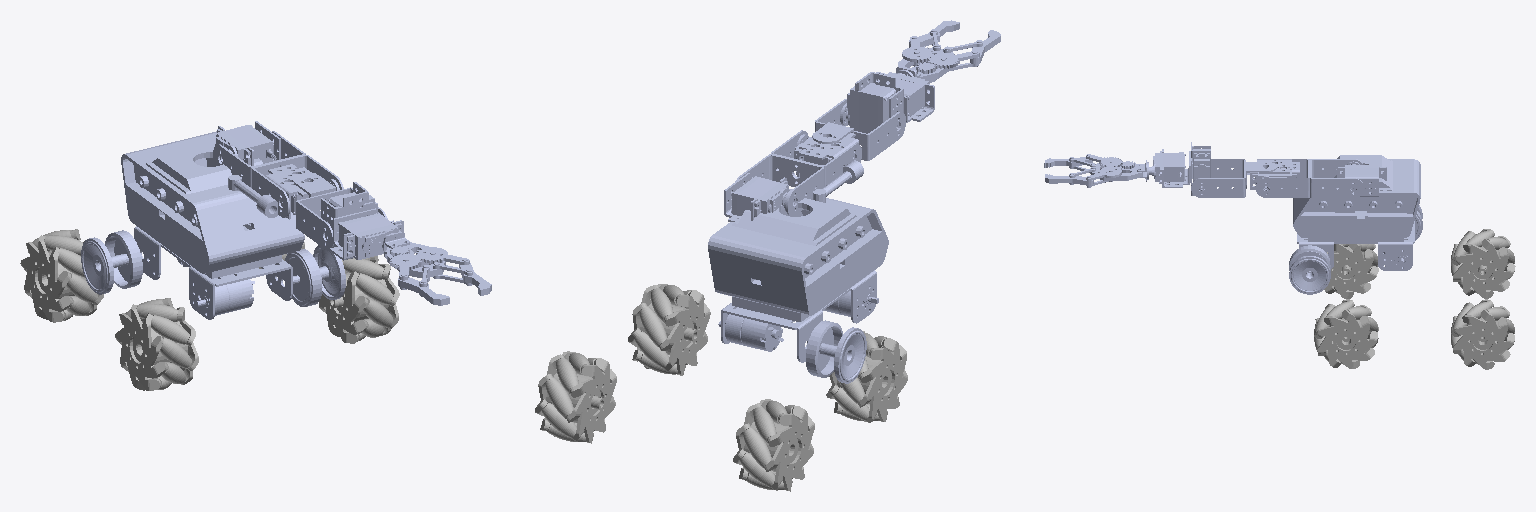
The robot description file, URDF, robot "urdf_omnidirectional_manipulator":
<?xml version="1.0" encoding="utf-8"?>
<!-- This URDF was automatically created by SolidWorks to URDF Exporter! Originally created by [author] ([email redacted]) 
     Commit Version: 1.6.0-4-g7f85cfe  Build Version: 1.6.7995.38578
     For more information, please see http://wiki.ros.org/sw_urdf_exporter -->
<robot
  name="urdf_omnidirectional_manipulator">
  <link
    name="base_link">
    <inertial>
      <origin
        xyz="0.000101168364989104 -0.00377722152863208 0.0460516576627933"
        rpy="0 0 0" />
      <mass
        value="0.577281083216241" />
      <inertia
        ixx="0.00162450670599958"
        ixy="-4.63440581983851E-07"
        ixz="-2.10706591377875E-08"
        iyy="0.000877404129357638"
        iyz="1.3538679556105E-07"
        izz="0.00178173129381051" />
    </inertial>
    <visual>
      <origin
        xyz="0 0 0"
        rpy="0 0 0" />
      <geometry>
        <mesh
          filename="package://urdf_omnidirectional_manipulator/meshes/base_link.STL" />
      </geometry>
      <material
        name="">
        <color
          rgba="0.792156862745098 0.819607843137255 0.933333333333333 1" />
      </material>
    </visual>
    <collision>
      <origin
        xyz="0 0 0"
        rpy="0 0 0" />
      <geometry>
        <mesh
          filename="package://urdf_omnidirectional_manipulator/meshes/base_link.STL" />
      </geometry>
    </collision>
  </link>
  <link
    name="fl_wheel_link">
    <inertial>
      <origin
        xyz="4.52085493402032E-06 -4.88664378021919E-05 -0.0179706540332964"
        rpy="0 0 0" />
      <mass
        value="0.123795234111436" />
      <inertia
        ixx="2.36708966689132E-05"
        ixy="-5.47275866691368E-11"
        ixz="-2.37723215757676E-12"
        iyy="2.36713215795414E-05"
        iyz="-5.93576540349247E-13"
        izz="3.12049313661706E-05" />
    </inertial>
    <visual>
      <origin
        xyz="0 0 0"
        rpy="0 0 0" />
      <geometry>
        <mesh
          filename="package://urdf_omnidirectional_manipulator/meshes/fl_wheel_link.STL" />
      </geometry>
      <material
        name="">
        <color
          rgba="0.752941176470588 0.752941176470588 0.752941176470588 1" />
      </material>
    </visual>
    <collision>
      <origin
        xyz="0 0 0"
        rpy="0 0 0" />
      <geometry>
        <mesh
          filename="package://urdf_omnidirectional_manipulator/meshes/fl_wheel_link.STL" />
      </geometry>
    </collision>
  </link>
  <joint
    name="fl_wheel_joint"
    type="continuous">
    <origin
      xyz="0.11788 -0.081567 -0.037794"
      rpy="1.5708 0 1.5708" />
    <parent
      link="base_link" />
    <child
      link="fl_wheel_link" />
    <axis
      xyz="0 0 1" />
  </joint>
  <link
    name="rl_wheel_link">
    <inertial>
      <origin
        xyz="3.38688270623555E-07 -4.90739561579412E-05 -0.0179706540274416"
        rpy="0 0 0" />
      <mass
        value="0.123795234112302" />
      <inertia
        ixx="2.36708904525499E-05"
        ixy="-1.78357083418209E-11"
        ixz="-2.43197290538672E-12"
        iyy="2.36713277993141E-05"
        iyz="-3.86641400007471E-13"
        izz="3.12049313695836E-05" />
    </inertial>
    <visual>
      <origin
        xyz="0 0 0"
        rpy="0 0 0" />
      <geometry>
        <mesh
          filename="package://urdf_omnidirectional_manipulator/meshes/rl_wheel_link.STL" />
      </geometry>
      <material
        name="">
        <color
          rgba="0.752941176470588 0.752941176470588 0.752941176470588 1" />
      </material>
    </visual>
    <collision>
      <origin
        xyz="0 0 0"
        rpy="0 0 0" />
      <geometry>
        <mesh
          filename="package://urdf_omnidirectional_manipulator/meshes/rl_wheel_link.STL" />
      </geometry>
    </collision>
  </link>
  <joint
    name="rl_wheel_joint"
    type="continuous">
    <origin
      xyz="0.11788 0.081569 -0.037789"
      rpy="1.5708 0 1.5708" />
    <parent
      link="base_link" />
    <child
      link="rl_wheel_link" />
    <axis
      xyz="0 0 1" />
  </joint>
  <link
    name="fr_wheel_link">
    <inertial>
      <origin
        xyz="-6.11520901047657E-06 4.86926204521509E-05 -0.0179706540345967"
        rpy="0 0 0" />
      <mass
        value="0.123795234122331" />
      <inertia
        ixx="2.36709007013009E-05"
        ixy="-6.84922971243531E-11"
        ixz="2.35721092189649E-12"
        iyy="2.36713175553343E-05"
        iyz="6.62652709376486E-13"
        izz="3.12049313743489E-05" />
    </inertial>
    <visual>
      <origin
        xyz="0 0 0"
        rpy="0 0 0" />
      <geometry>
        <mesh
          filename="package://urdf_omnidirectional_manipulator/meshes/fr_wheel_link.STL" />
      </geometry>
      <material
        name="">
        <color
          rgba="0.752941176470588 0.752941176470588 0.752941176470588 1" />
      </material>
    </visual>
    <collision>
      <origin
        xyz="0 0 0"
        rpy="0 0 0" />
      <geometry>
        <mesh
          filename="package://urdf_omnidirectional_manipulator/meshes/fr_wheel_link.STL" />
      </geometry>
    </collision>
  </link>
  <joint
    name="fr_wheel_joint"
    type="continuous">
    <origin
      xyz="-0.11788 -0.081566 -0.037705"
      rpy="1.5708 0 -1.5708" />
    <parent
      link="base_link" />
    <child
      link="fr_wheel_link" />
    <axis
      xyz="0 0 1" />
  </joint>
  <link
    name="rr_wheel_link">
    <inertial>
      <origin
        xyz="3.19934590352483E-05 -3.72127310237502E-05 -0.0179706540223195"
        rpy="0 0 0" />
      <mass
        value="0.12379523412853" />
      <inertia
        ixx="2.36710909421958E-05"
        ixy="-2.18652607900441E-10"
        ixz="-1.61525081587452E-12"
        iyy="2.36711273190928E-05"
        iyz="-1.87489341406403E-12"
        izz="3.12049313790006E-05" />
    </inertial>
    <visual>
      <origin
        xyz="0 0 0"
        rpy="0 0 0" />
      <geometry>
        <mesh
          filename="package://urdf_omnidirectional_manipulator/meshes/rr_wheel_link.STL" />
      </geometry>
      <material
        name="">
        <color
          rgba="0.752941176470588 0.752941176470588 0.752941176470588 1" />
      </material>
    </visual>
    <collision>
      <origin
        xyz="0 0 0"
        rpy="0 0 0" />
      <geometry>
        <mesh
          filename="package://urdf_omnidirectional_manipulator/meshes/rr_wheel_link.STL" />
      </geometry>
    </collision>
  </link>
  <joint
    name="rr_wheel_joint"
    type="continuous">
    <origin
      xyz="-0.11788 0.081609 -0.037681"
      rpy="-1.5708 0 1.5708" />
    <parent
      link="base_link" />
    <child
      link="rr_wheel_link" />
    <axis
      xyz="0 0 1" />
  </joint>
  <link
    name="Link_1">
    <inertial>
      <origin
        xyz="0.000506046615463357 0.00691496728629516 -0.0122755959836562"
        rpy="0 0 0" />
      <mass
        value="0.0382070631949755" />
      <inertia
        ixx="6.05895904112999E-06"
        ixy="-3.26790900435385E-10"
        ixz="1.70232643106716E-08"
        iyy="1.06084491676467E-05"
        iyz="1.55715035338171E-07"
        izz="7.32724940736577E-06" />
    </inertial>
    <visual>
      <origin
        xyz="0 0 0"
        rpy="0 0 0" />
      <geometry>
        <mesh
          filename="package://urdf_omnidirectional_manipulator/meshes/Link_1.STL" />
      </geometry>
      <material
        name="">
        <color
          rgba="0.792156862745098 0.819607843137255 0.933333333333333 1" />
      </material>
    </visual>
    <collision>
      <origin
        xyz="0 0 0"
        rpy="0 0 0" />
      <geometry>
        <mesh
          filename="package://urdf_omnidirectional_manipulator/meshes/Link_1.STL" />
      </geometry>
    </collision>
  </link>
  <joint
    name="joint_1"
    type="revolute">
    <origin
      xyz="0.0099965 -0.062847 0.12528"
      rpy="-1.5708 0 -1.5708" />
    <parent
      link="base_link" />
    <child
      link="Link_1" />
    <axis
      xyz="0 1 0" />
    <limit
      lower="-1.57"
      upper="0"
      effort="10"
      velocity="100" />
  </joint>
  <link
    name="Link_2">
    <inertial>
      <origin
        xyz="0.0519935153424735 9.31325867987998E-10 -0.0241591323242931"
        rpy="0 0 0" />
      <mass
        value="0.0170251169263654" />
      <inertia
        ixx="1.08907010787336E-05"
        ixy="3.11047077367638E-08"
        ixz="-5.74856746591523E-21"
        iyy="1.68733569095532E-05"
        iyz="1.46608453476581E-21"
        izz="7.85969468178107E-06" />
    </inertial>
    <visual>
      <origin
        xyz="0 0 0"
        rpy="0 0 0" />
      <geometry>
        <mesh
          filename="package://urdf_omnidirectional_manipulator/meshes/Link_2.STL" />
      </geometry>
      <material
        name="">
        <color
          rgba="0.792156862745098 0.819607843137255 0.933333333333333 1" />
      </material>
    </visual>
    <collision>
      <origin
        xyz="0 0 0"
        rpy="0 0 0" />
      <geometry>
        <mesh
          filename="package://urdf_omnidirectional_manipulator/meshes/Link_2.STL" />
      </geometry>
    </collision>
  </link>
  <joint
    name="joint_2"
    type="revolute">
    <origin
      xyz="0.010077 0.0057856 0.01"
      rpy="0 0 0" />
    <parent
      link="Link_1" />
    <child
      link="Link_2" />
    <axis
      xyz="0 0 1" />
    <limit
      lower="0"
      upper="0.45"
      effort="10"
      velocity="100" />
  </joint>
  <link
    name="Link_3">
    <inertial>
      <origin
        xyz="-0.00145033630413227 -0.00137973727908961 0.0156275288663969"
        rpy="0 0 0" />
      <mass
        value="0.0494773487894258" />
      <inertia
        ixx="1.18336660189981E-05"
        ixy="1.24373046667324E-07"
        ixz="-1.86477617019496E-08"
        iyy="1.954406916305E-05"
        iyz="-1.55737377757555E-07"
        izz="1.17899796886126E-05" />
    </inertial>
    <visual>
      <origin
        xyz="0 0 0"
        rpy="0 0 0" />
      <geometry>
        <mesh
          filename="package://urdf_omnidirectional_manipulator/meshes/Link_3.STL" />
      </geometry>
      <material
        name="">
        <color
          rgba="0.792156862745098 0.819607843137255 0.933333333333333 1" />
      </material>
    </visual>
    <collision>
      <origin
        xyz="0 0 0"
        rpy="0 0 0" />
      <geometry>
        <mesh
          filename="package://urdf_omnidirectional_manipulator/meshes/Link_3.STL" />
      </geometry>
    </collision>
  </link>
  <joint
    name="joint_3"
    type="revolute">
    <origin
      xyz="0.10399 0 -0.01"
      rpy="3.1416 0 3.1416" />
    <parent
      link="Link_2" />
    <child
      link="Link_3" />
    <axis
      xyz="0 0 1" />
    <limit
      lower="-1.57"
      upper="1.5708"
      effort="10"
      velocity="100" />
  </joint>
  <link
    name="Link_4">
    <inertial>
      <origin
        xyz="-0.0095710650310705 -0.00112932990654074 -0.0161449114265881"
        rpy="0 0 0" />
      <mass
        value="0.0382070631949756" />
      <inertia
        ixx="6.05895904112999E-06"
        ixy="3.26790900332788E-10"
        ixz="-1.70232643106688E-08"
        iyy="1.06084491676467E-05"
        iyz="1.55715035338175E-07"
        izz="7.32724940736576E-06" />
    </inertial>
    <visual>
      <origin
        xyz="0 0 0"
        rpy="0 0 0" />
      <geometry>
        <mesh
          filename="package://urdf_omnidirectional_manipulator/meshes/Link_4.STL" />
      </geometry>
      <material
        name="">
        <color
          rgba="0.792156862745098 0.819607843137255 0.933333333333333 1" />
      </material>
    </visual>
    <collision>
      <origin
        xyz="0 0 0"
        rpy="0 0 0" />
      <geometry>
        <mesh
          filename="package://urdf_omnidirectional_manipulator/meshes/Link_4.STL" />
      </geometry>
    </collision>
  </link>
  <joint
    name="joint_4"
    type="revolute">
    <origin
      xyz="-0.076947 0.0002706 0"
      rpy="-3.1416 0 1.5708" />
    <parent
      link="Link_3" />
    <child
      link="Link_4" />
    <axis
      xyz="0 0 1" />
    <limit
      lower="-1.5708"
      upper="1.57"
      effort="10"
      velocity="100" />
  </joint>
  <link
    name="Link_5">
    <inertial>
      <origin
        xyz="0.028833786920895 0.00413587714794112 -0.0028584998515091"
        rpy="0 0 0" />
      <mass
        value="0.0373359018111918" />
      <inertia
        ixx="6.03560504196294E-06"
        ixy="3.26790897789057E-10"
        ixz="-1.70232643103967E-08"
        iyy="1.05850951684802E-05"
        iyz="1.55715035337853E-07"
        izz="7.28302147533164E-06" />
    </inertial>
    <visual>
      <origin
        xyz="0 0 0"
        rpy="0 0 0" />
      <geometry>
        <mesh
          filename="package://urdf_omnidirectional_manipulator/meshes/Link_5.STL" />
      </geometry>
      <material
        name="">
        <color
          rgba="0.792156862745098 0.819607843137255 0.933333333333333 1" />
      </material>
    </visual>
    <collision>
      <origin
        xyz="0 0 0"
        rpy="0 0 0" />
      <geometry>
        <mesh
          filename="package://urdf_omnidirectional_manipulator/meshes/Link_5.STL" />
      </geometry>
    </collision>
  </link>
  <joint
    name="joint_5"
    type="fixed">
    <origin
      xyz="-0.0059012 -0.040229 -0.050049"
      rpy="1.5708 -1.5708 0" />
    <parent
      link="Link_4" />
    <child
      link="Link_5" />
    <axis
      xyz="0 0 0" />
    <limit
      lower="-1.57"
      upper="1.57"
      effort="10"
      velocity="100" />
  </joint>
  <link
    name="end_effector">
    <inertial>
      <origin
        xyz="0.00052063255921888 0.000297558030083706 0.0577395076620412"
        rpy="0 0 0" />
      <mass
        value="0.0268863153129509" />
      <inertia
        ixx="7.16843100504782E-06"
        ixy="-2.16004182896192E-18"
        ixz="1.45205222495832E-17"
        iyy="5.41074299136263E-06"
        iyz="-6.95119128869655E-08"
        izz="1.95010952707155E-06" />
    </inertial>
    <visual>
      <origin
        xyz="0 0 0"
        rpy="0 0 0" />
      <geometry>
        <mesh
          filename="package://urdf_omnidirectional_manipulator/meshes/end_effector.STL" />
      </geometry>
      <material
        name="">
        <color
          rgba="0.792156862745098 0.819607843137255 0.933333333333333 1" />
      </material>
    </visual>
    <collision>
      <origin
        xyz="0 0 0"
        rpy="0 0 0" />
      <geometry>
        <mesh
          filename="package://urdf_omnidirectional_manipulator/meshes/end_effector.STL" />
      </geometry>
    </collision>
  </link>
  <joint
    name="end_effector_joint"
    type="revolute">
    <origin
      xyz="0.038628 0.0052916 0.019564"
      rpy="0 0 1.5708" />
    <parent
      link="Link_5" />
    <child
      link="end_effector" />
    <axis
      xyz="0 0 1" />
    <limit
      lower="-1.57"
      upper="0"
      effort="10"
      velocity="100" />
  </joint>
</robot>

--- Facts derived from the render (not from the file) ---
The picture shows the robot from 3 angles, left to right: view 1: azimuth 30°, elevation 25°; view 2: azimuth 150°, elevation 25°; view 3: azimuth 270°, elevation 25°; orthographic projection.
Model urdf_omnidirectional_manipulator with 11 links and 10 joints (5 revolute, 4 continuous, 1 fixed), rooted at base_link, posed every joint at zero.
Links seen in each view (by area): view 1: base_link, fr_wheel_link, rr_wheel_link, fl_wheel_link, end_effector, Link_3, Link_2, Link_5, Link_1, Link_4; view 2: base_link, rr_wheel_link, fl_wheel_link, rl_wheel_link, fr_wheel_link, Link_3, Link_2, end_effector, Link_4, Link_1, Link_5; view 3: base_link, fl_wheel_link, rr_wheel_link, rl_wheel_link, Link_2, Link_3, fr_wheel_link, end_effector, Link_5, Link_1, Link_4.
Link boxes in pixels (box(x1,y1,x2,y2)): base_link: box(81, 131, 345, 319); fr_wheel_link: box(115, 298, 198, 390); rr_wheel_link: box(20, 229, 103, 322); fl_wheel_link: box(319, 256, 399, 343); end_effector: box(382, 232, 491, 305); Link_3: box(265, 164, 387, 250); Link_2: box(213, 131, 343, 217); Link_5: box(330, 208, 403, 260); Link_1: box(215, 121, 280, 165); Link_4: box(321, 182, 378, 257); base_link: box(708, 161, 888, 383); rr_wheel_link: box(733, 399, 814, 491); fl_wheel_link: box(628, 284, 710, 375); rl_wheel_link: box(535, 351, 616, 443); fr_wheel_link: box(826, 331, 907, 422); Link_3: box(794, 99, 905, 176); Link_2: box(735, 130, 861, 216); end_effector: box(896, 20, 1000, 82); Link_4: box(840, 72, 903, 133); Link_1: box(724, 173, 795, 221); Link_5: box(873, 72, 934, 122); base_link: box(1289, 155, 1422, 294); fl_wheel_link: box(1314, 299, 1378, 368); rr_wheel_link: box(1451, 229, 1515, 298); rl_wheel_link: box(1451, 299, 1514, 369); Link_2: box(1256, 159, 1363, 197); Link_3: box(1191, 159, 1299, 197); fr_wheel_link: box(1324, 244, 1378, 298); end_effector: box(1044, 154, 1151, 187); Link_5: box(1152, 149, 1190, 187); Link_1: box(1337, 161, 1386, 196); Link_4: box(1191, 142, 1210, 195).
Size in the robot's own frame: 0.2453 by 0.5624 by 0.2354 metres.
11 mesh visuals loaded from 11 distinct referenced files (11 binary STL).